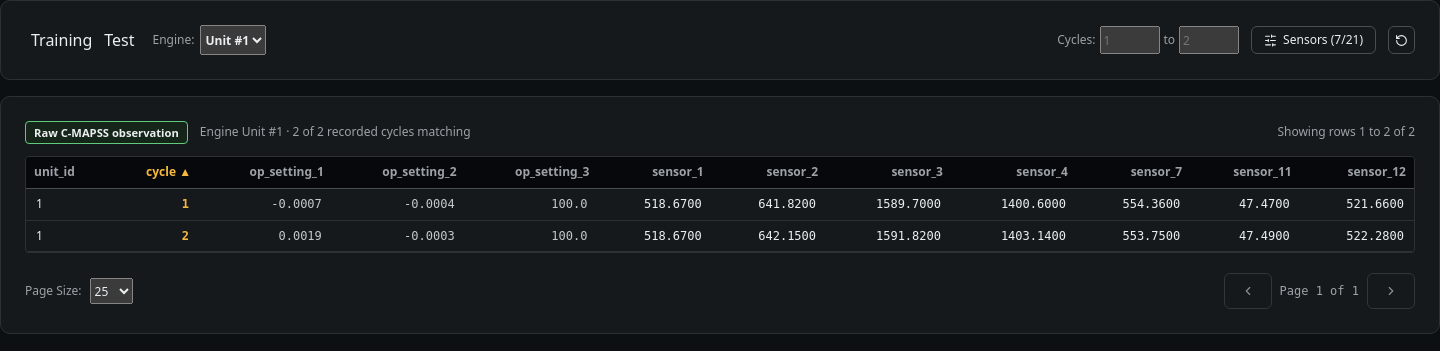
Test case: Dataset Explorer — UI Component Tests › renders RawObservationBrowser with authentic C-MAPSS rows and cycle filters
Expected: the text "Raw C-MAPSS observation" is shown, 25,121 -> 188,144
Expected: the text "641.8200" is shown, 712,188 -> 826,220
# Change unit in dropdown
Select "Unit #2" in the dropdown named "Select Engine Unit" at coordinates (234, 40), box 200,25 -> 266,55
# Filter cycle range
Type "2" into the number field named "Minimum cycle filter" at coordinates (1130, 40), box 1100,26 -> 1160,54
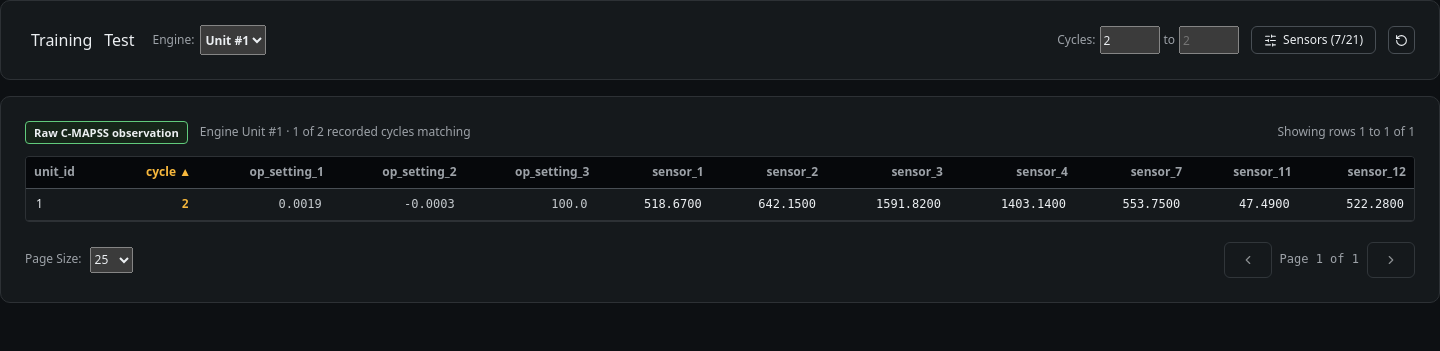
Expected: the text "642.1500" is shown, 712,188 -> 826,220
Expected: the text "641.8200" is gone
